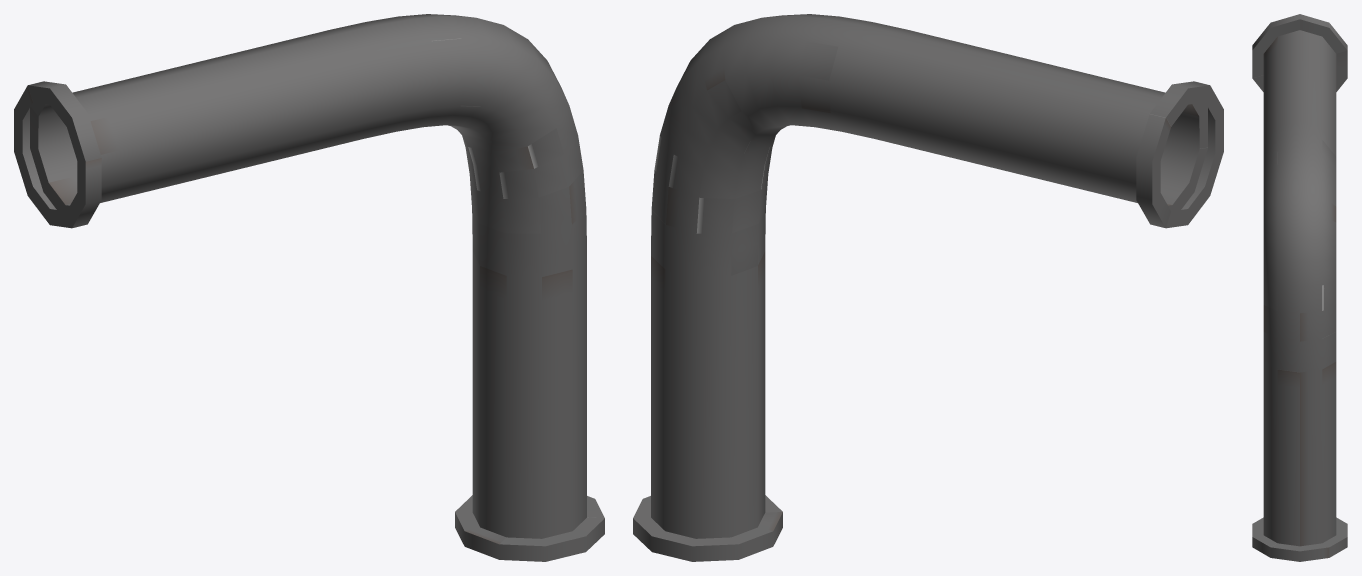
Rendered from kolanko.fbx.
3 renders of one model, left to right at view 1: azimuth 30°, elevation 25°; view 2: azimuth 150°, elevation 25°; view 3: azimuth 270°, elevation 25°, orthographic. The views are drawn at different scales.
Visible parts, largest first — view 1: BézierCurve.002; view 2: BézierCurve.002; view 3: BézierCurve.002.
Boxes of the visible parts, left/top/right/bottom form: BézierCurve.002: left=14, top=14, right=604, bottom=561; BézierCurve.002: left=633, top=14, right=1223, bottom=561; BézierCurve.002: left=1252, top=14, right=1347, bottom=561.
Bounding box in the file's own units: 27.44 × 120 × 118.
